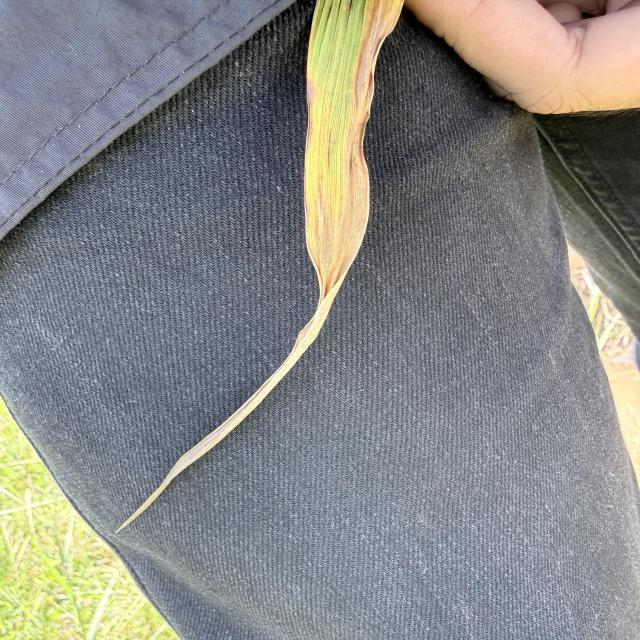Chay bia la: (117, 0, 407, 529), (304, 75, 324, 307)
